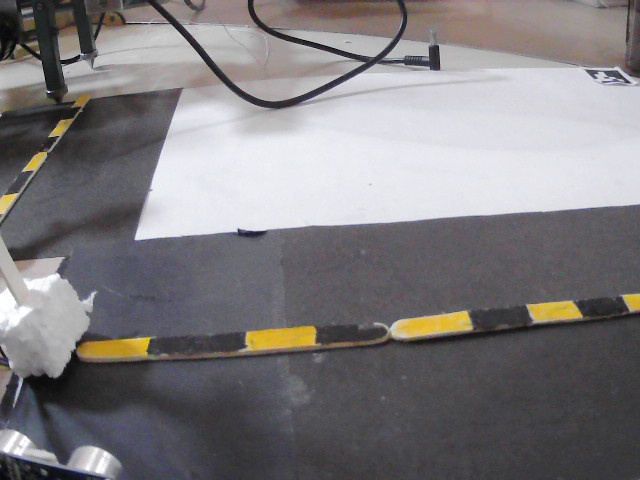aruco_marker: (583, 63, 629, 89)
black_strip: (148, 333, 243, 351), (317, 322, 387, 345), (578, 290, 628, 317), (473, 308, 523, 323), (34, 132, 59, 155), (9, 167, 30, 194), (60, 108, 79, 120)
mixed_lane: (64, 278, 640, 369), (0, 90, 99, 225)
uno_breadboard: (0, 429, 128, 480)
yellow_strip: (83, 334, 147, 357), (245, 325, 315, 345), (524, 300, 588, 318), (391, 316, 473, 327), (24, 150, 46, 171), (0, 191, 16, 213), (624, 288, 640, 309), (56, 114, 72, 132), (70, 96, 90, 108)
